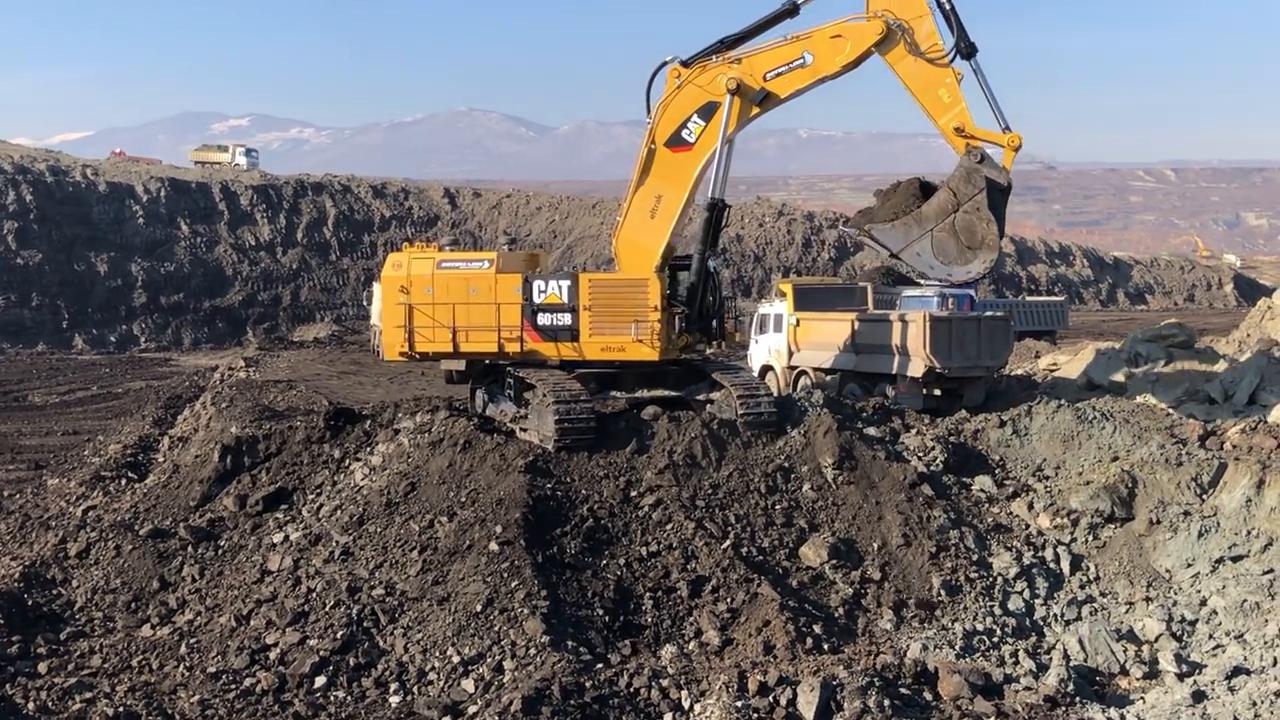full: (825, 143, 1028, 296)
